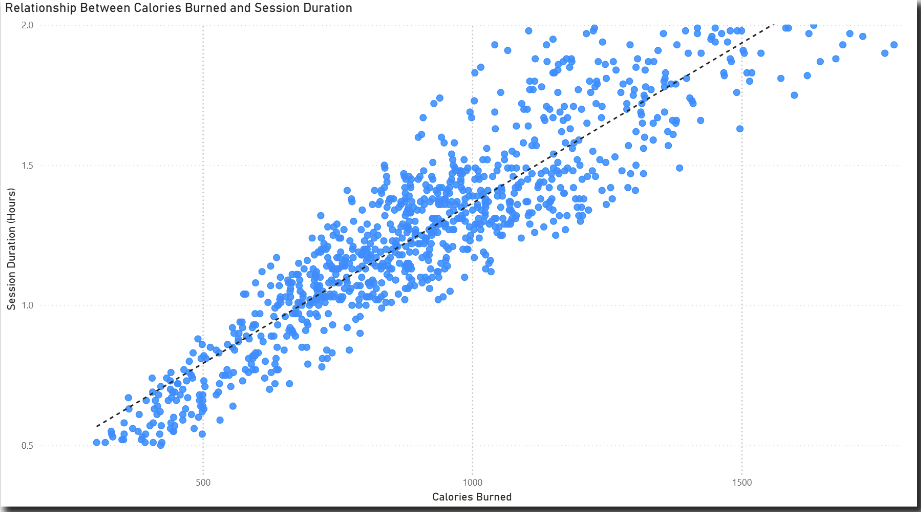

Layout of this report page (visuals, bound fields, positions):
{"tool":"powerbi","page":{"name":"Page 2","canvas":[1280,720],"ordinal":1},"visuals":[{"type":"scatterChart","title":"Relationship Between Calories Burned and Session Duration","fields":{"X":["gym_members_exercise_tracking.Calories_Burned"],"Y":["gym_members_exercise_tracking.Session_Duration (hours)"]},"box":[37.3,12,1188,656.6],"z":0}]}

Visuals, with their boxes in screenshot pixels (x1, y1, x2, y2), scaled from the page's 1280x720 canvas onto the 921x512 screenshot:
"Relationship Between Calories Burned and Session Duration" scatterChart: <box>27,9,882,475</box>
